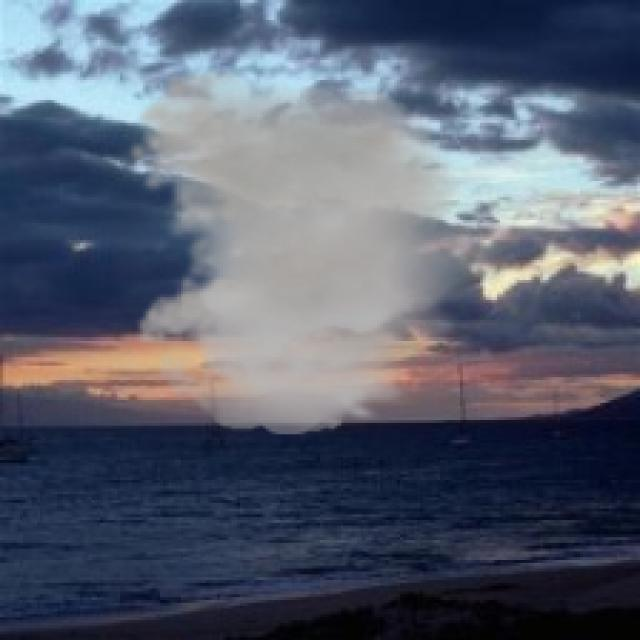Smoke: (126, 68, 512, 434)
